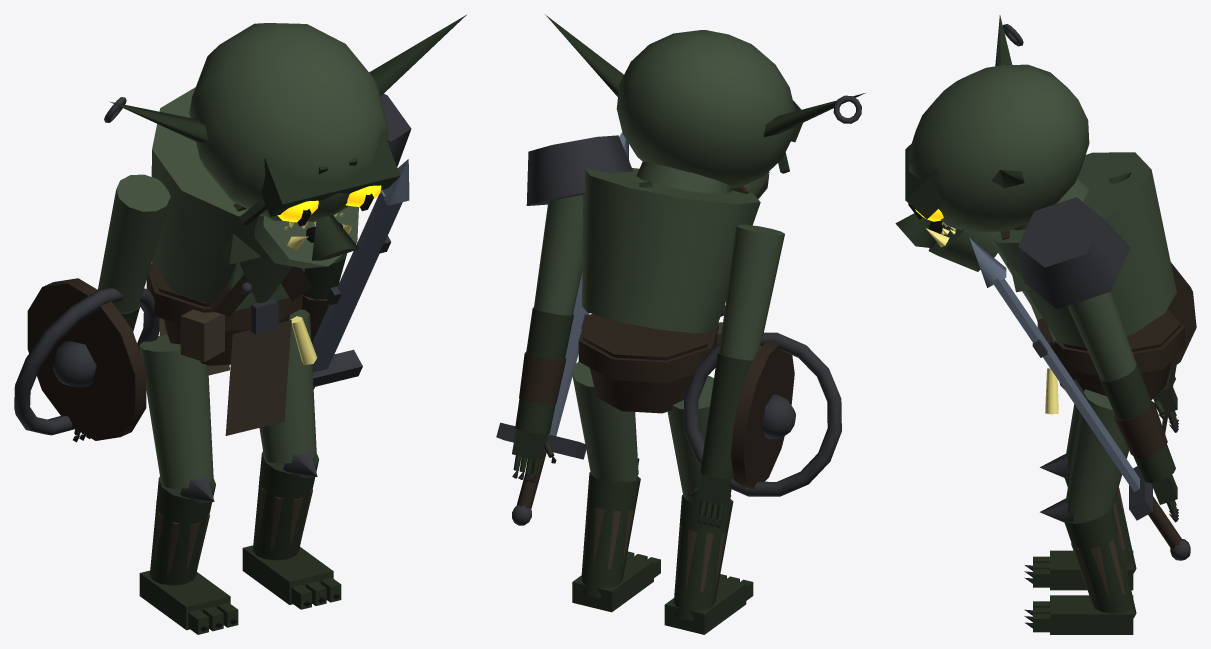
File: ash_goblin.glb
3 renders of one model, left to right at view 1: azimuth 30°, elevation 25°; view 2: azimuth 150°, elevation 25°; view 3: azimuth 270°, elevation 25°, orthographic. The views are drawn at different scales.
Visible parts, largest first — view 1: Head, LeftForearm, Chest, Hips, LeftThigh, WeaponSocket, LeftUpperArm, LeftCalf, RightCalf, RightThigh, RightFoot, LeftFoot (+4 smaller); view 2: Chest, Head, LeftForearm, Hips, LeftUpperArm, RightCalf, RightForearm, LeftCalf, RightThigh, RightUpperArm, WeaponSocket, LeftFoot (+6 smaller); view 3: Head, Chest, WeaponSocket, Hips, RightCalf, RightThigh, RightForearm, RightUpperArm, RightFoot, LeftFoot, Jaw, LeftForearm (+6 smaller).
Part boxes in pixels (box(x1,y1,x2,y2)): Head: box(189, 23, 400, 260); LeftForearm: box(14, 278, 159, 440); Chest: box(151, 87, 411, 316); Hips: box(146, 263, 317, 435); LeftThigh: box(139, 334, 213, 488); WeaponSocket: box(312, 159, 409, 389); LeftUpperArm: box(98, 174, 170, 312); LeftCalf: box(149, 475, 215, 585); RightCalf: box(253, 450, 319, 560); RightThigh: box(259, 309, 316, 463); RightFoot: box(242, 545, 341, 609); LeftFoot: box(139, 570, 238, 634); Chest: box(526, 135, 760, 333); Head: box(616, 30, 802, 188); LeftForearm: box(683, 332, 841, 496); Hips: box(578, 314, 722, 413); LeftUpperArm: box(719, 224, 784, 360); RightCalf: box(581, 458, 640, 598); RightForearm: box(515, 307, 573, 434); LeftCalf: box(674, 495, 733, 620); RightThigh: box(572, 361, 638, 482); RightUpperArm: box(534, 195, 582, 315); WeaponSocket: box(496, 132, 629, 525); LeftFoot: box(664, 574, 753, 634); Head: box(895, 64, 1089, 248); Chest: box(992, 152, 1176, 347); WeaponSocket: box(969, 238, 1190, 560); Hips: box(1037, 309, 1184, 433); RightCalf: box(1040, 498, 1136, 618); RightThigh: box(1065, 389, 1128, 521); RightForearm: box(1099, 362, 1175, 482); RightUpperArm: box(1068, 292, 1136, 381); RightFoot: box(1024, 595, 1133, 634); LeftFoot: box(1024, 550, 1133, 590); Jaw: box(926, 222, 1000, 271); LeftForearm: box(1160, 262, 1196, 391).
Size of the model in its own units: 1.01 by 1.47 by 0.7578.
